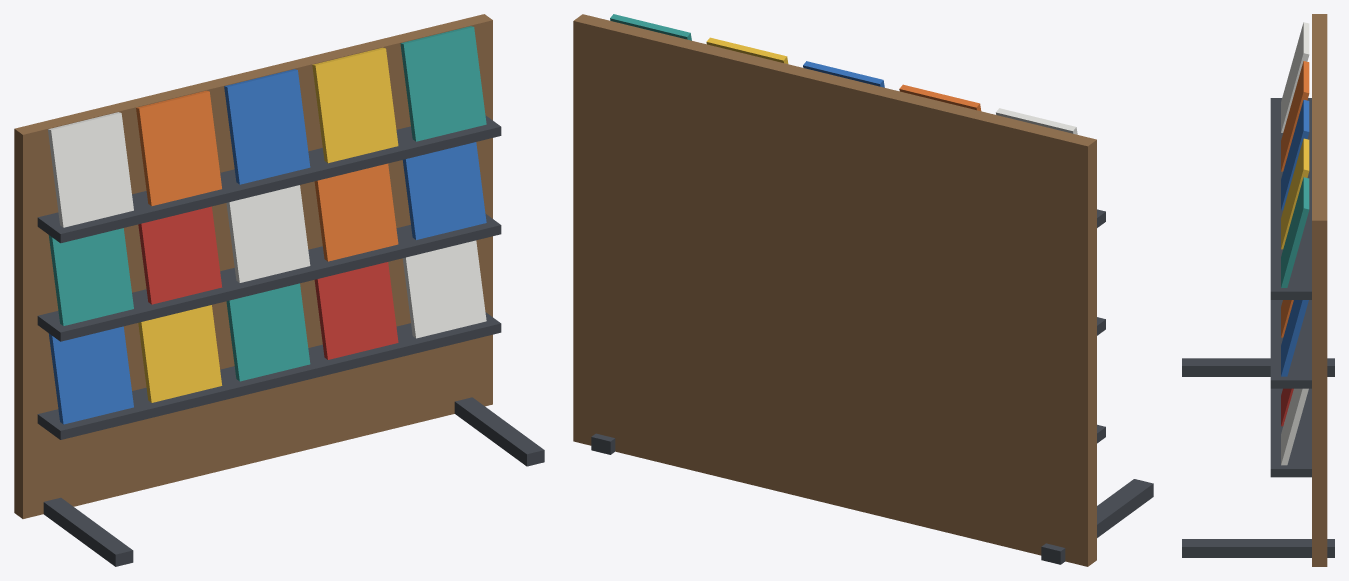
Rendered from brochure_rack.glb.
3 views of the same model, side by side, from view 1: azimuth 30°, elevation 25°; view 2: azimuth 150°, elevation 25°; view 3: azimuth 270°, elevation 25° (orthographic). The views are drawn at different scales.
Visible parts, largest first — view 1: brochure_rack_mesh; view 2: brochure_rack_mesh; view 3: brochure_rack_mesh.
Boxes of the visible parts, left/top/right/bottom form: brochure_rack_mesh: left=14, top=14, right=544, bottom=566; brochure_rack_mesh: left=573, top=14, right=1153, bottom=566; brochure_rack_mesh: left=1182, top=14, right=1334, bottom=566.
Bounding box in the file's own units: 1.6 × 1.26 × 0.5.
